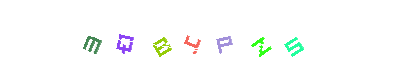4: (152, 0, 232, 80)
B: (128, 0, 208, 80)
M: (52, 0, 132, 80)
P: (157, 0, 237, 80)
Q: (122, 0, 202, 80)
S: (254, 0, 334, 80)
Z: (221, 0, 301, 80)
